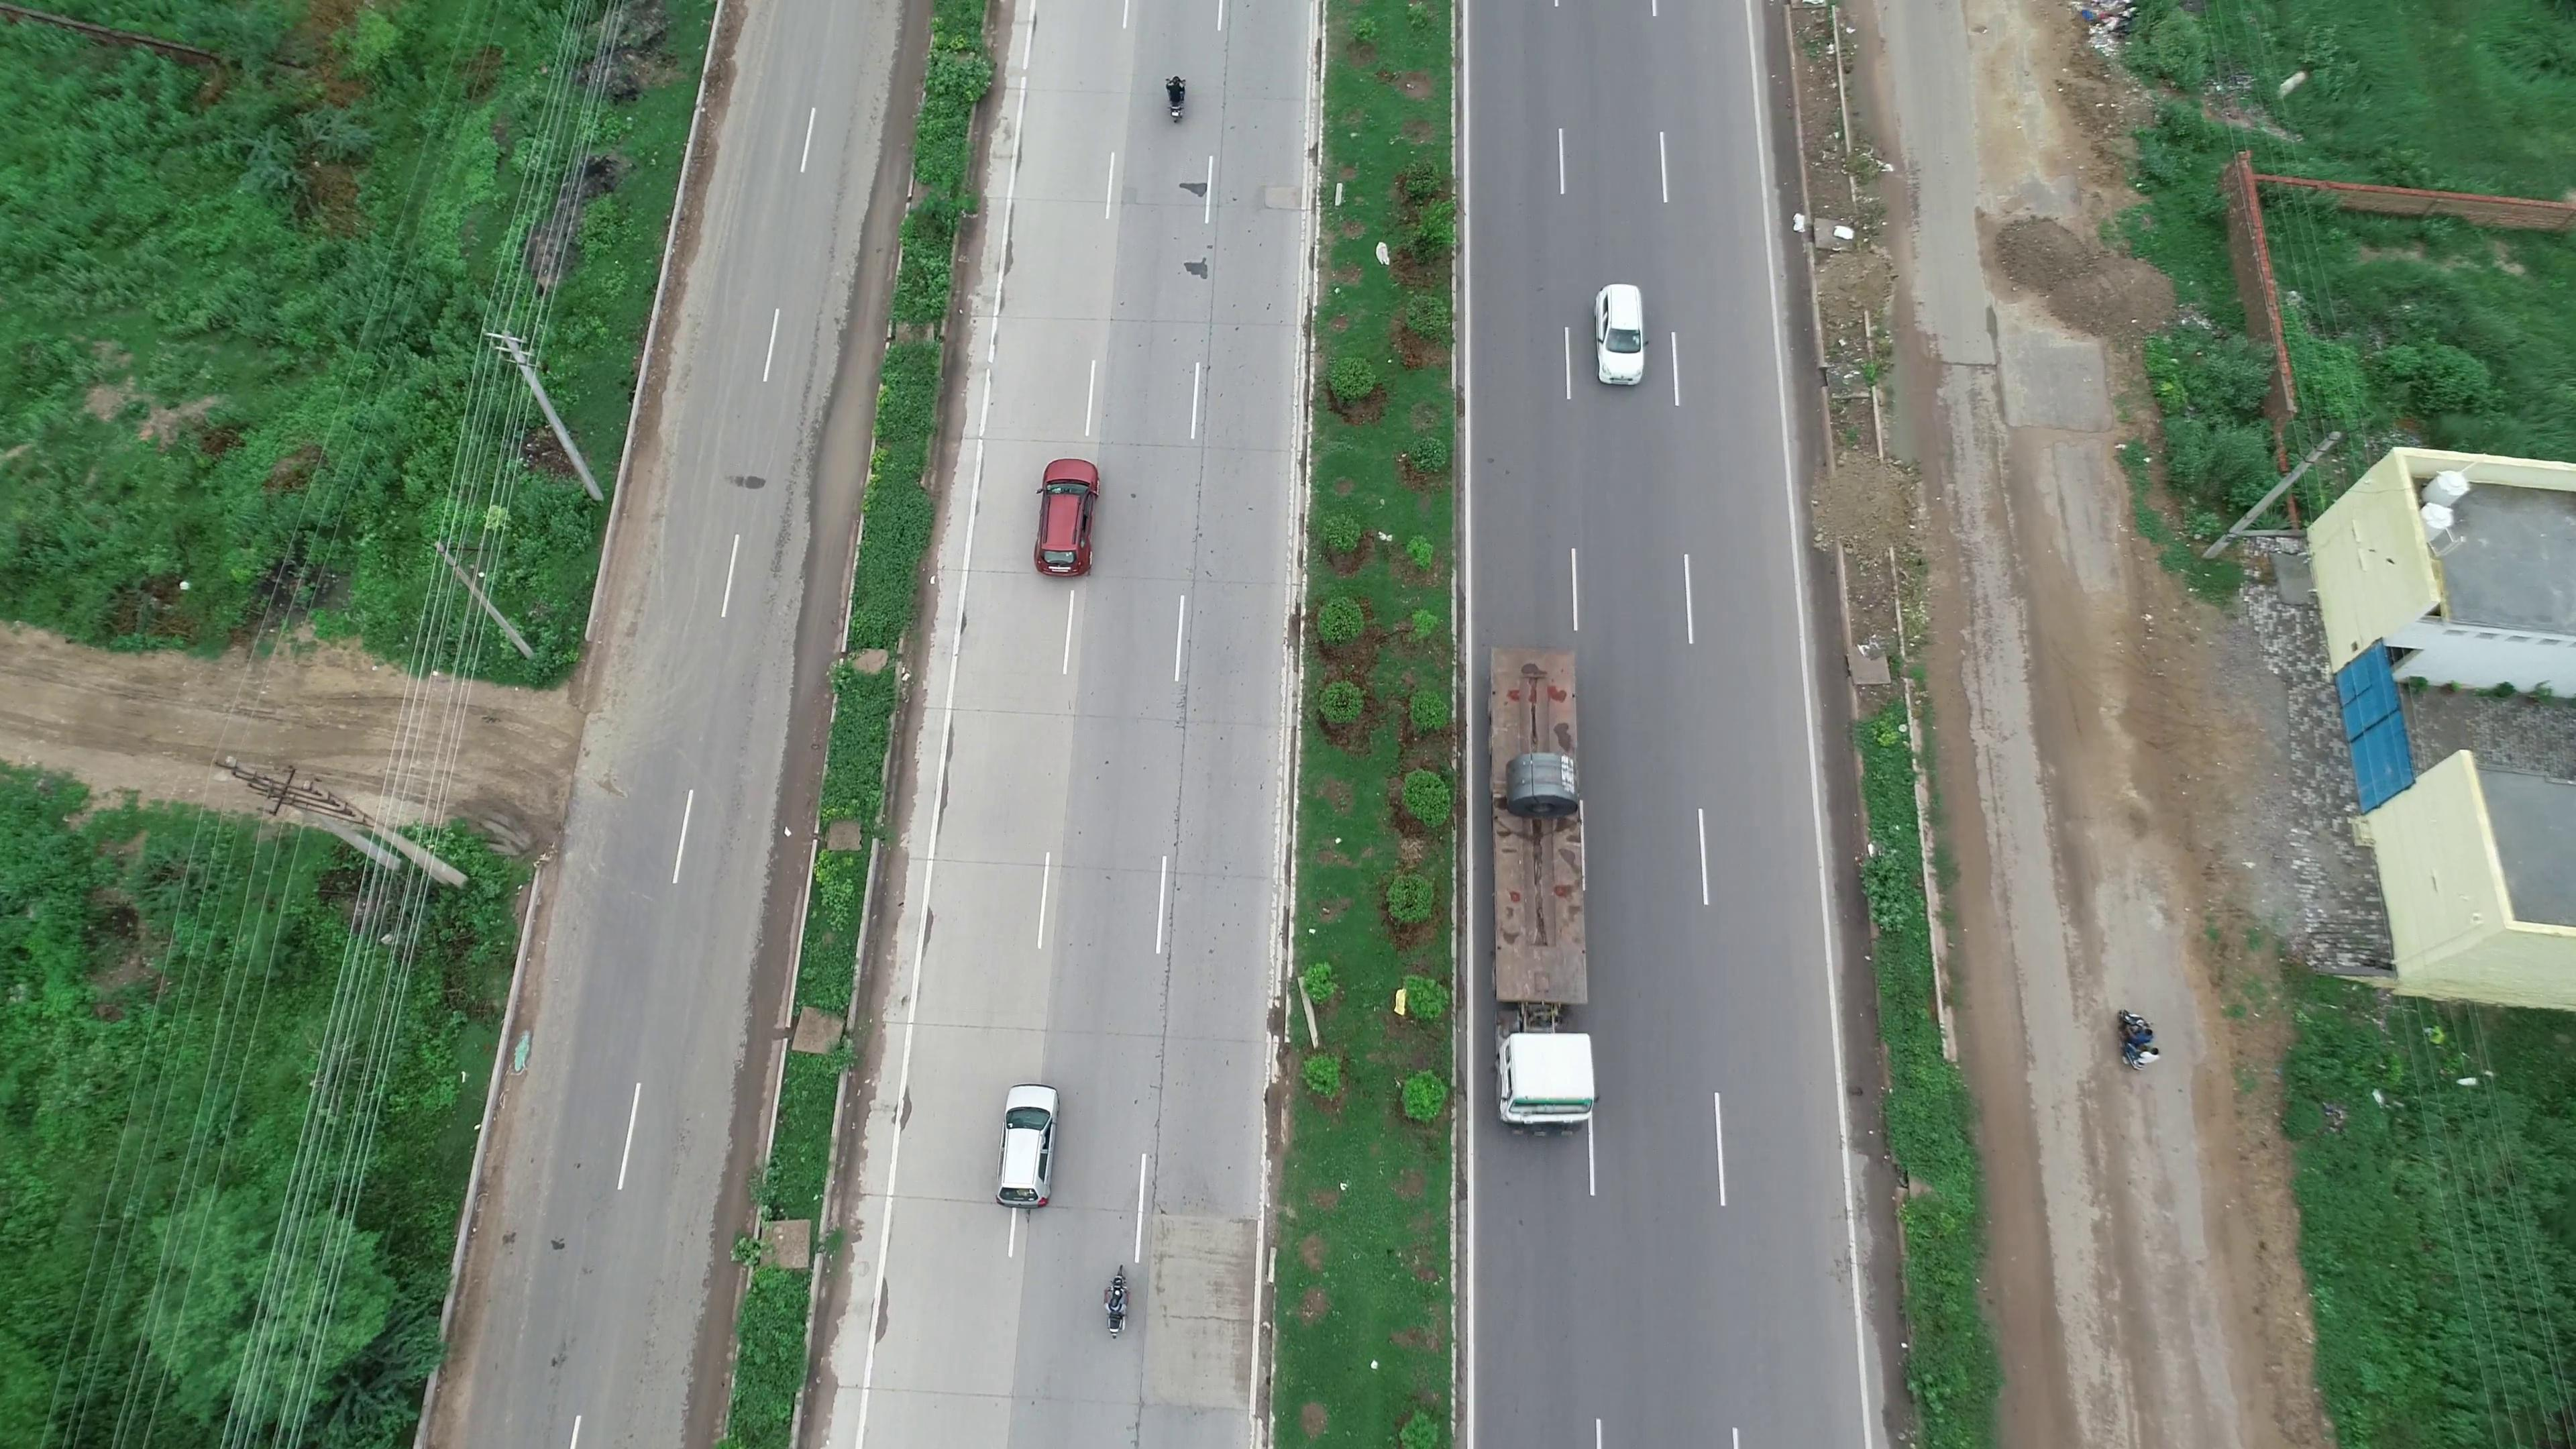Muddy_road: (1992, 441, 2120, 793)
